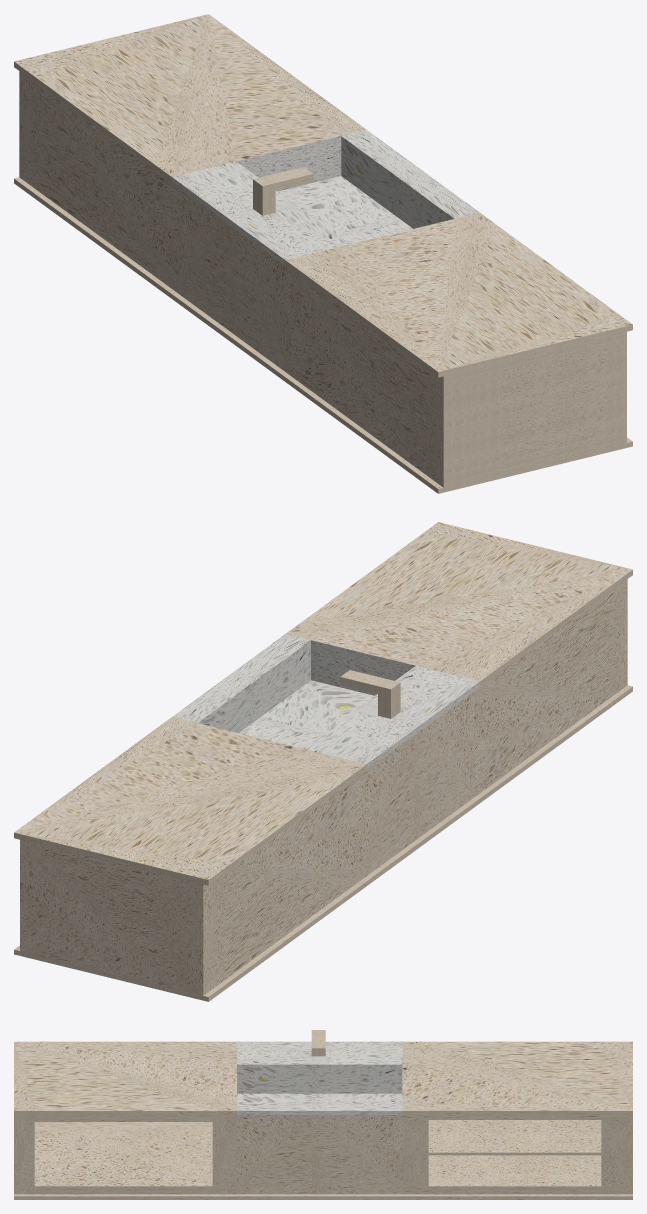
The model's file is pia.obj.
3 views of the same model, one above another, from view 1: azimuth 30°, elevation 25°; view 2: azimuth 150°, elevation 25°; view 3: azimuth 270°, elevation 25° (orthographic). The views are drawn at different scales.
Parts seen in each view (by area): view 1: Cube; view 2: Cube; view 3: Cube.
Part boxes in pixels (x1,y1,x2,y2): Cube: (14,14,632,493); Cube: (14,522,632,1001); Cube: (14,1030,632,1199).
Bounding box in the file's own units: 2.12 × 1.58 × 8.01.
2 materials, 2 textured.
